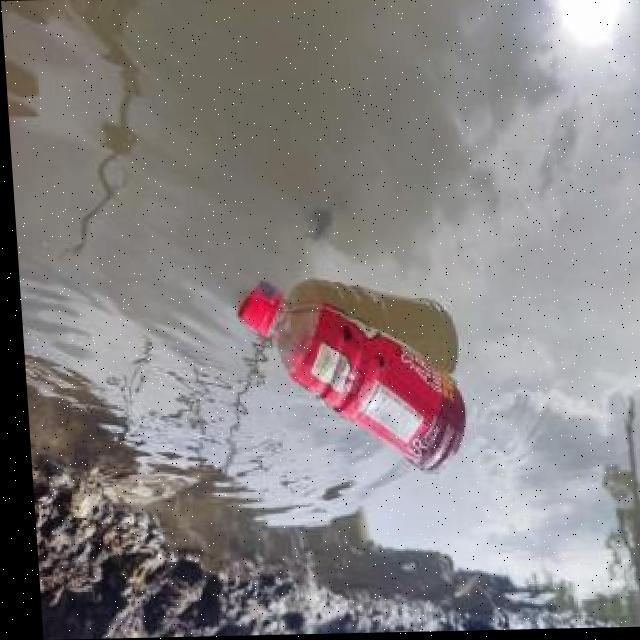bottle: (224, 277, 461, 483)
